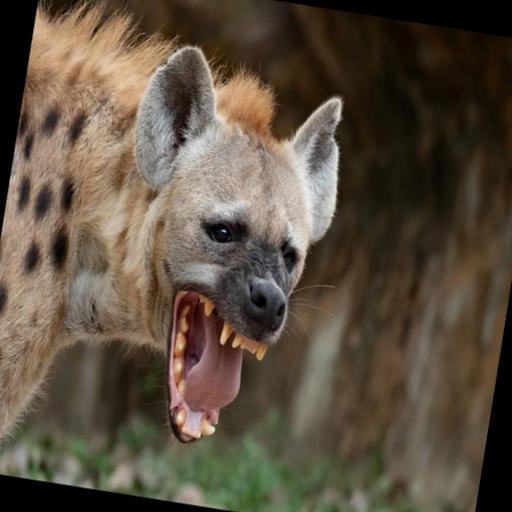hyenas: (0, 22, 373, 497)
